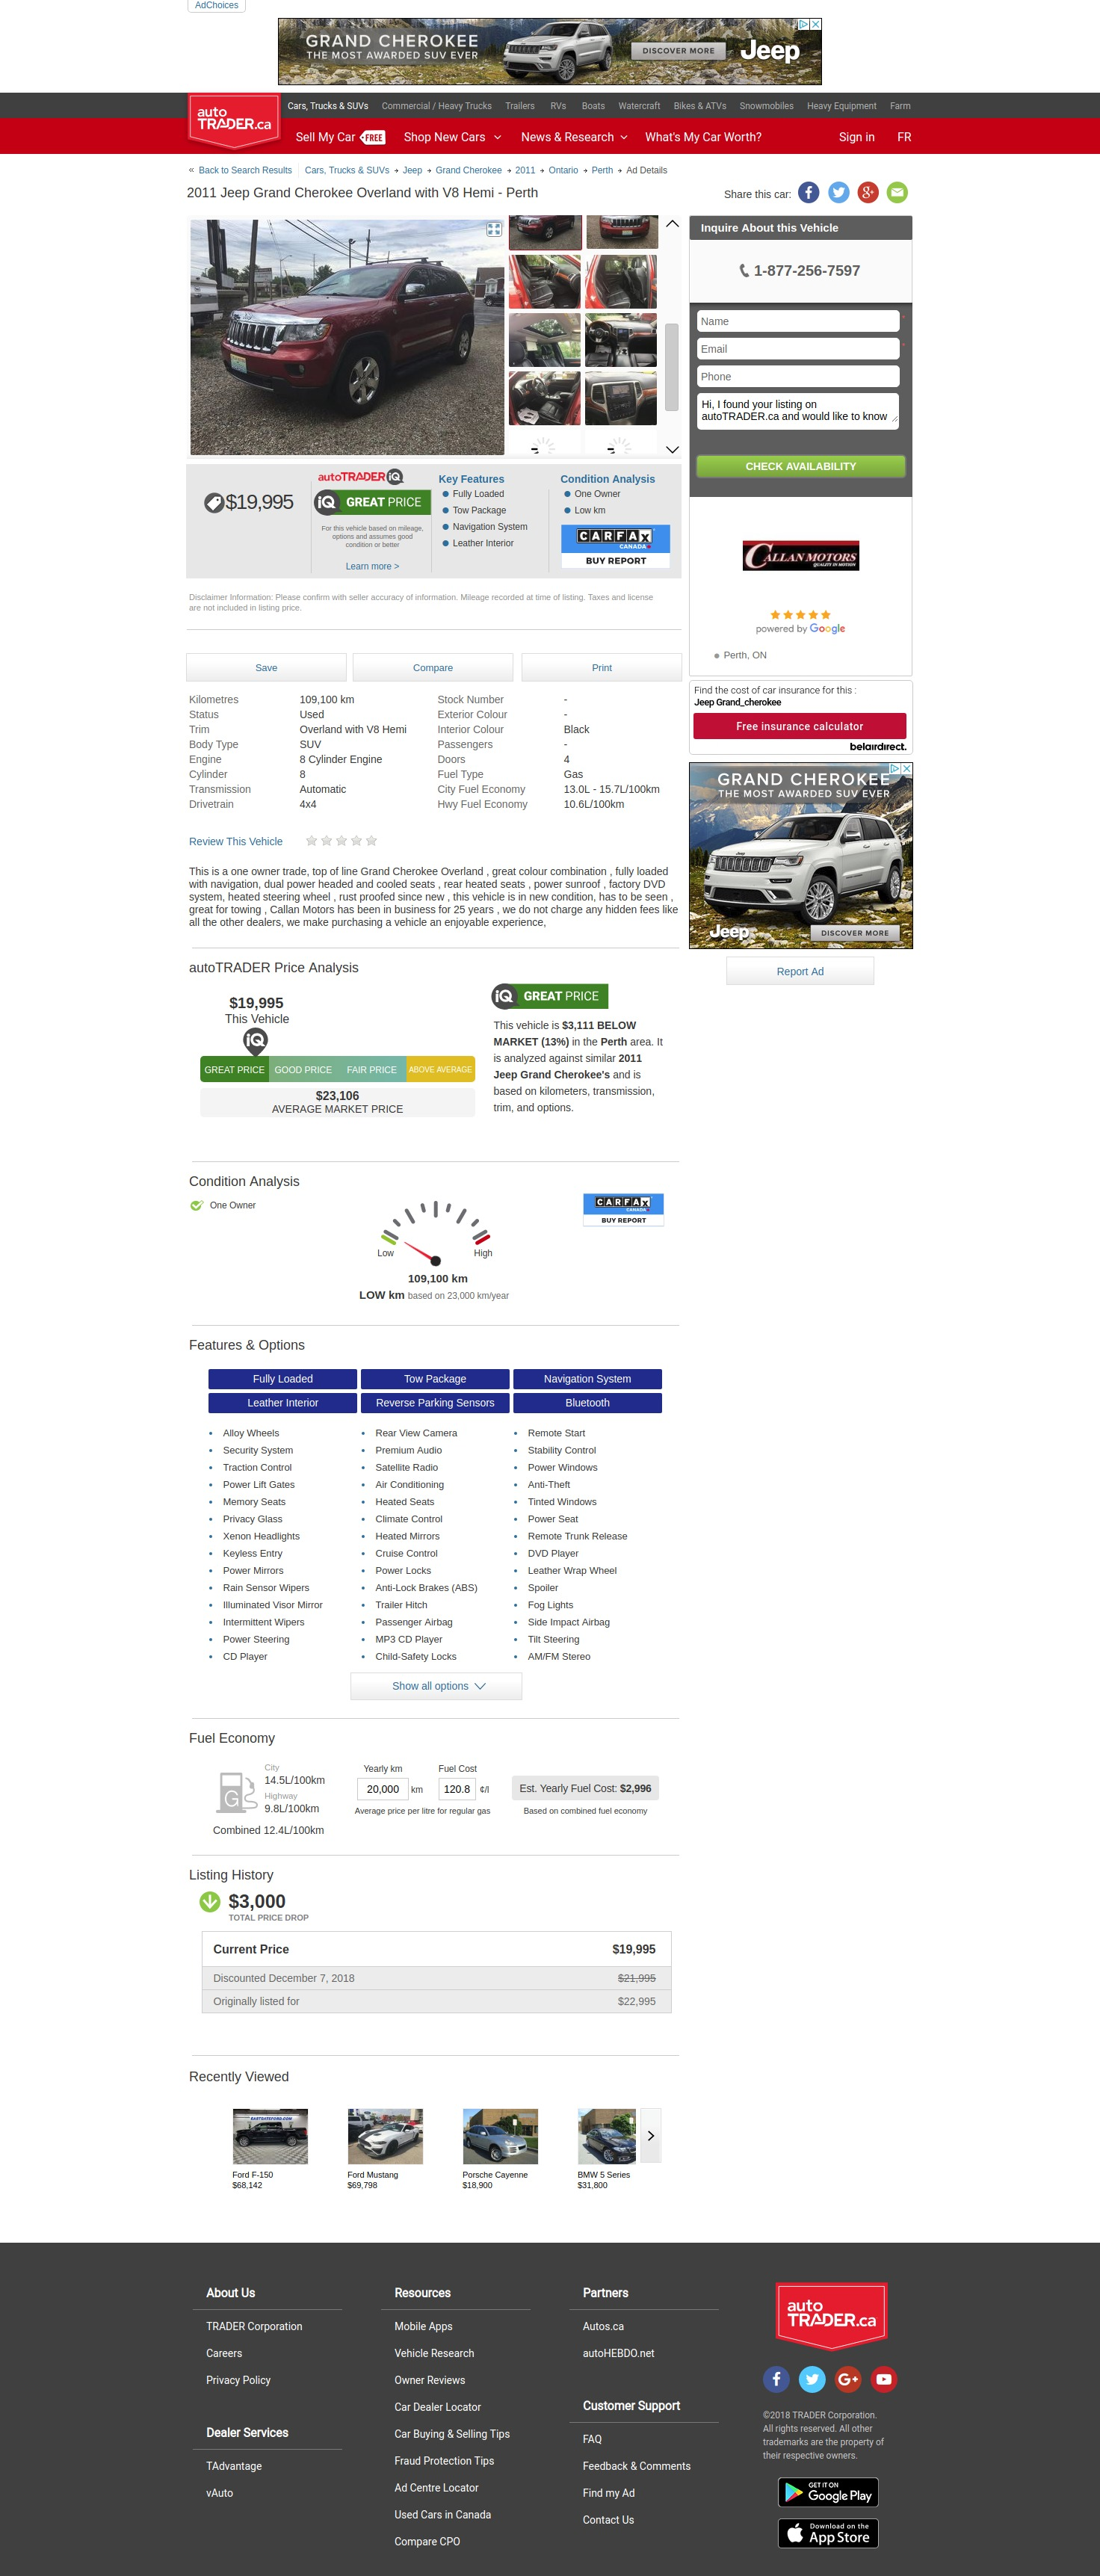car: (665, 445, 681, 455)
